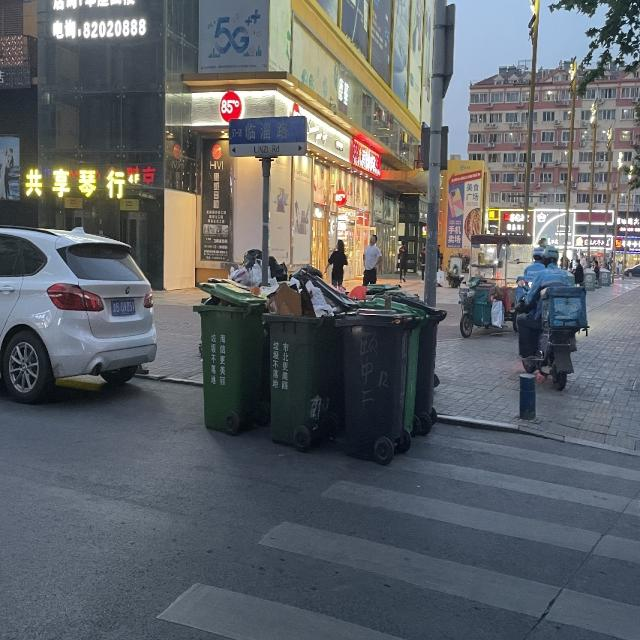garbage_bin: (334, 308, 415, 458), (358, 297, 428, 433), (392, 294, 447, 416)
overflow: (258, 266, 344, 444), (191, 276, 266, 432)
